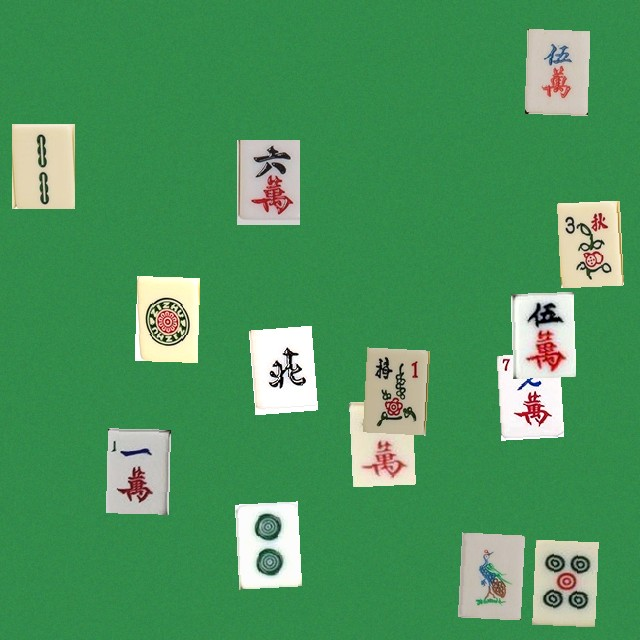tile: (134, 275, 197, 360), (248, 325, 311, 410), (105, 428, 168, 513), (236, 139, 299, 224), (532, 539, 595, 624), (349, 399, 412, 484), (557, 200, 620, 285), (11, 123, 74, 208), (457, 532, 520, 617), (524, 28, 587, 113), (234, 501, 297, 586), (496, 352, 559, 437), (362, 347, 425, 432), (510, 291, 573, 376)
